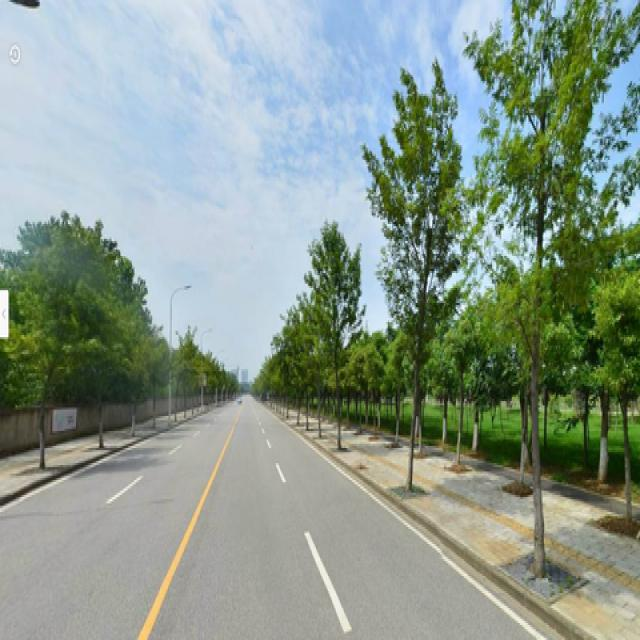koel: (370, 70, 466, 487)
